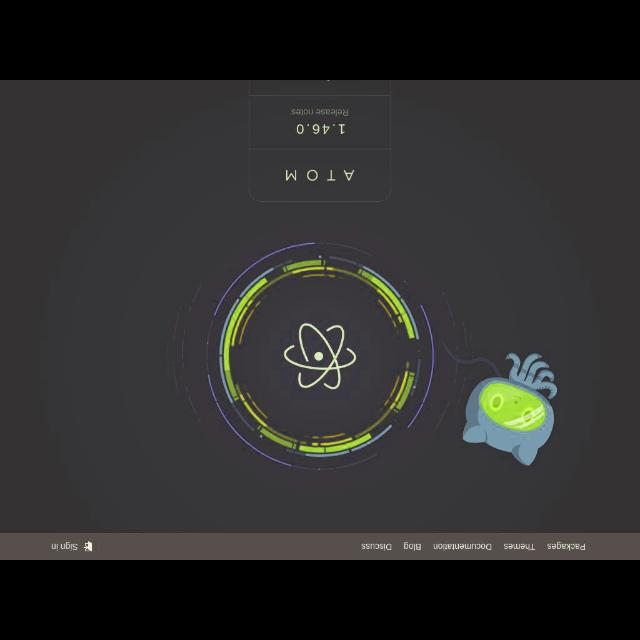backgroundimage: (1, 81, 639, 533)
icon: (83, 542, 93, 552)
multitab: (1, 533, 639, 559)
text: (286, 168, 354, 182), (432, 542, 492, 552), (296, 122, 346, 134), (291, 107, 349, 117), (546, 542, 586, 550), (50, 541, 78, 551), (502, 542, 536, 550), (361, 543, 392, 551), (402, 541, 422, 551)
